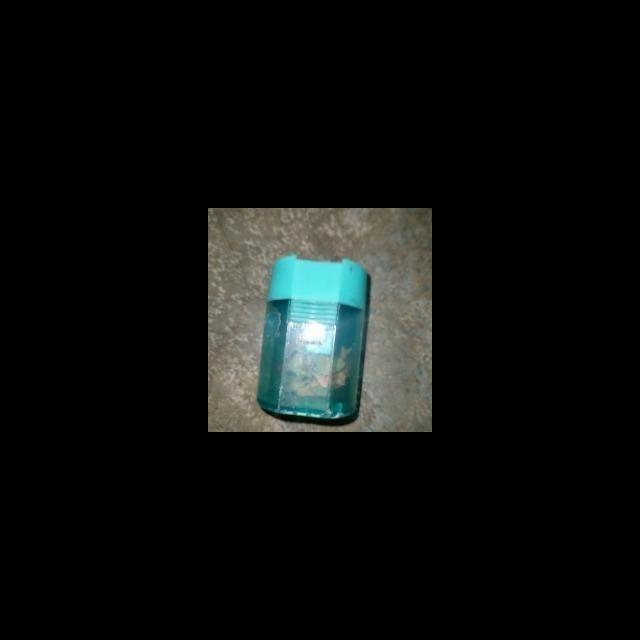plastic: (257, 250, 367, 432)
